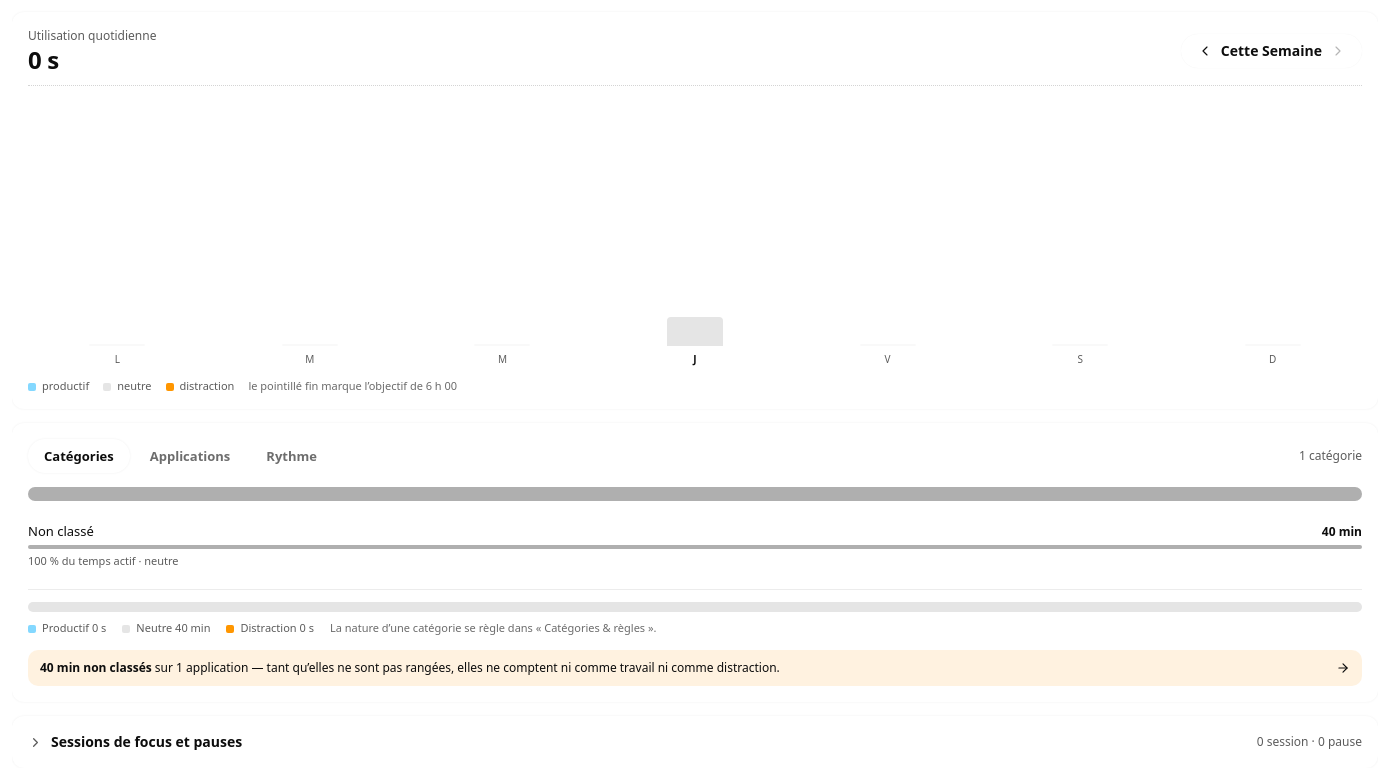
it: page Activité (journée) › range une application depuis sa ligne, sans passer par les règles
What coordinates should you click on to do the following:
click the button "Applications"
I would click on:
 (190, 456)
Its box is top-left (134, 439), bottom-right (246, 473).
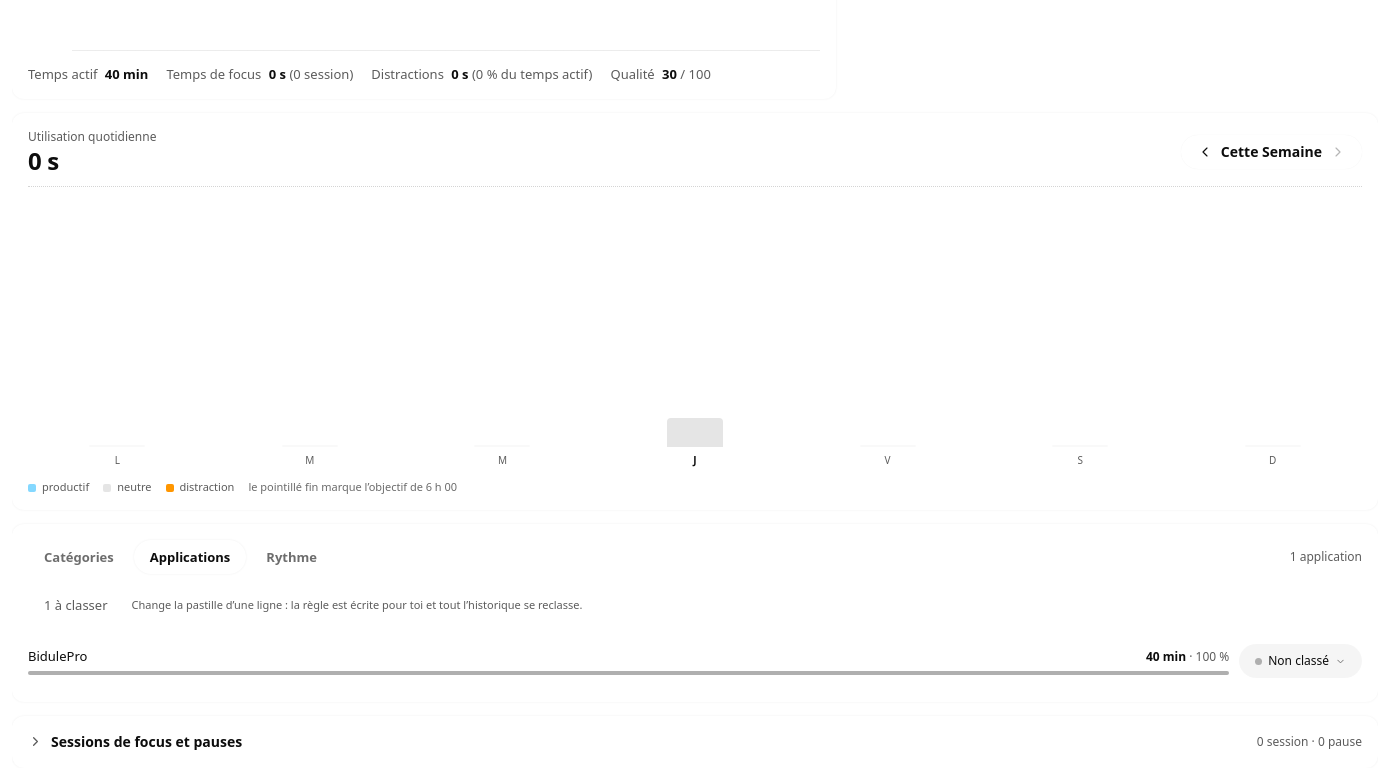
La ligne porte sa catégorie, et cette pastille est le bouton qui la change.
What coordinates should you click on to do the following:
click the button with aria-label "Catégorie : Non classé"
I would click on:
 (1301, 661)
Its box is top-left (1239, 644), bottom-right (1362, 678).
(page scrolled)
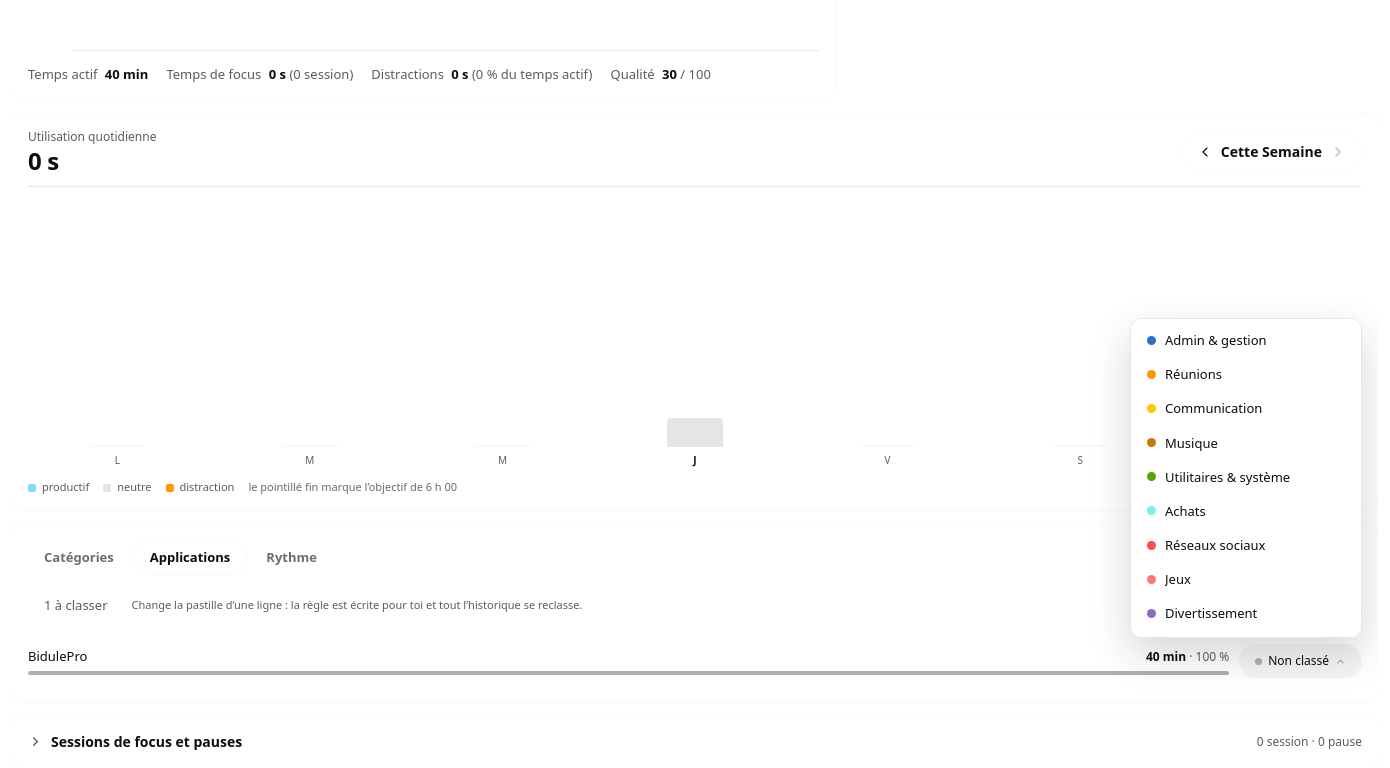
What coordinates should you click on to do the following:
click the button "Jeux"
I would click on:
 (1246, 579)
Its box is top-left (1137, 562), bottom-right (1355, 596).
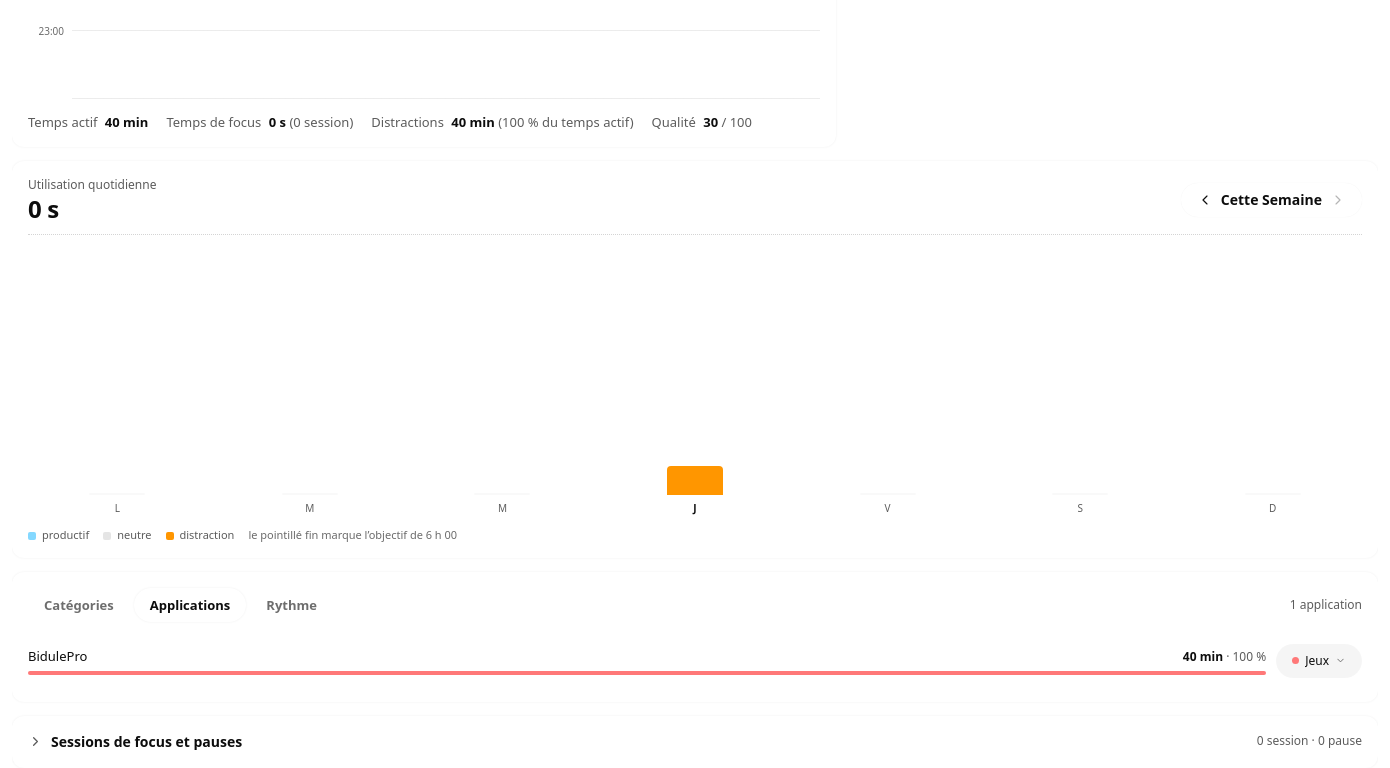
Expected: the button with aria-label "Catégorie : Jeux" is shown, top-left (1276, 644), bottom-right (1362, 678)
